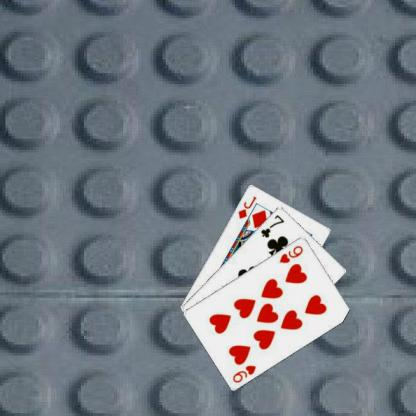7C: (258, 212, 286, 239)
9H: (276, 242, 304, 265), (230, 362, 258, 384)
JD: (235, 193, 258, 220)
